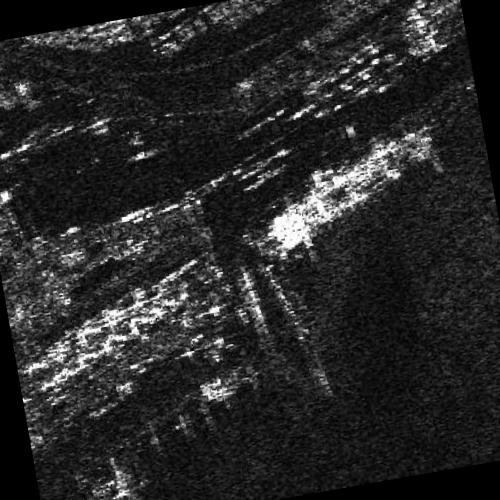ship: (256, 126, 435, 258)
